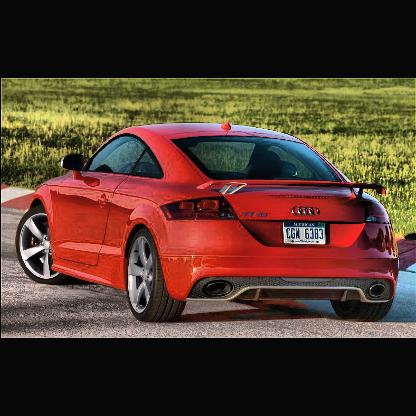Audi TT RS Coupe 2012: (16, 120, 402, 324)
